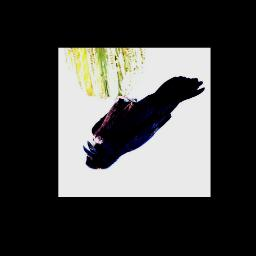Crow: (83, 76, 205, 170)
